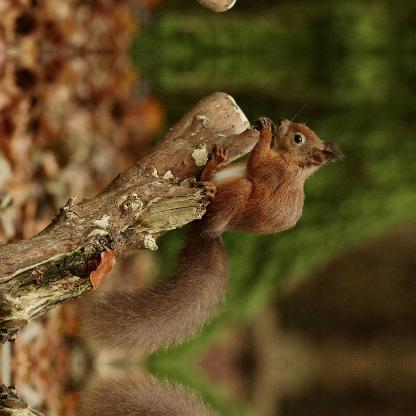Squirrel: (78, 102, 346, 362)
